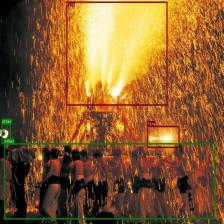fire: (66, 2, 167, 106), (147, 125, 179, 148)
